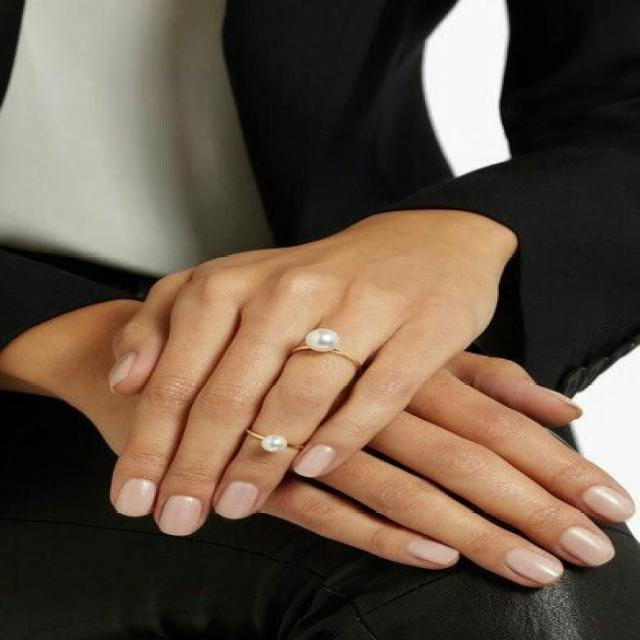Fingernail: (506, 545, 562, 586), (561, 525, 614, 565), (584, 485, 635, 523), (116, 478, 157, 519), (160, 496, 200, 537), (216, 482, 259, 519), (295, 445, 337, 478), (411, 539, 456, 565), (103, 353, 135, 384)
